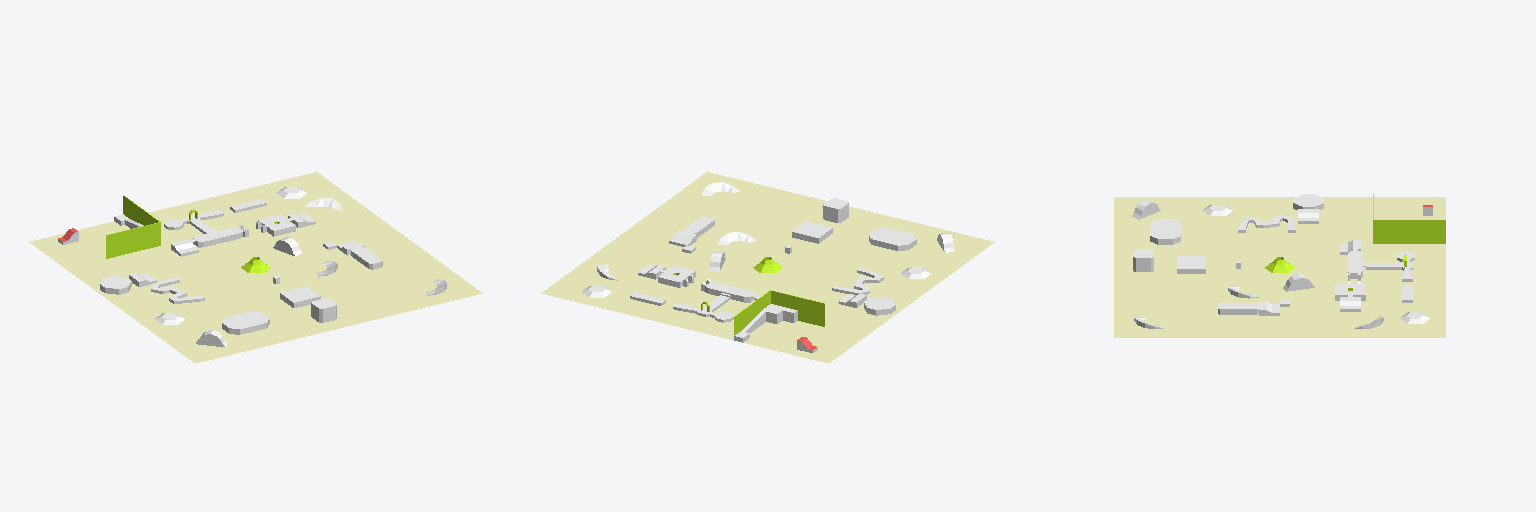
The model's file is Lethal Lava Land Area 1.obj.
3 renders of one model, left to right at view 1: azimuth 30°, elevation 25°; view 2: azimuth 150°, elevation 25°; view 3: azimuth 270°, elevation 25°, orthographic.
Bounding box in the file's own units: 32766 × 2560 × 32766.